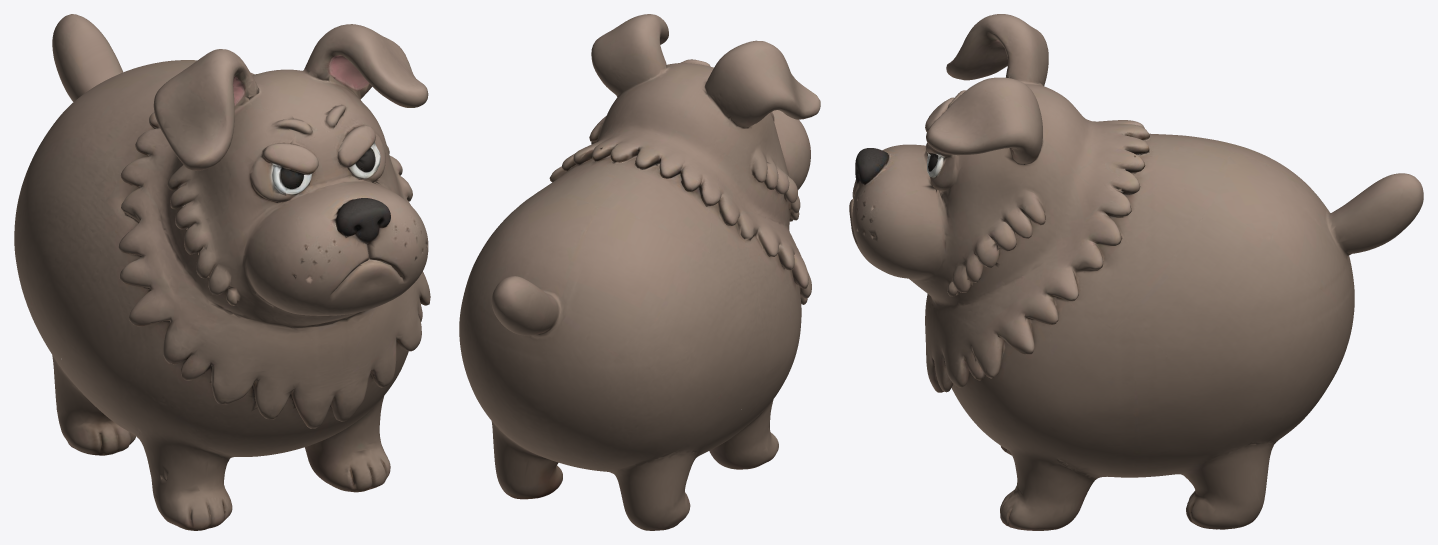
File: dog.glb
3 renders of one model, left to right at view 1: azimuth 30°, elevation 25°; view 2: azimuth 150°, elevation 25°; view 3: azimuth 270°, elevation 25°, orthographic. The views are drawn at different scales.
Parts seen in each view (by area): view 1: tripo_node_39139e6e-aca0-4b9f-b105-4eeecaefccec; view 2: tripo_node_39139e6e-aca0-4b9f-b105-4eeecaefccec; view 3: tripo_node_39139e6e-aca0-4b9f-b105-4eeecaefccec.
Part boxes in pixels (box(x1,y1,x2,y2)): tripo_node_39139e6e-aca0-4b9f-b105-4eeecaefccec: box(14, 14, 430, 530); tripo_node_39139e6e-aca0-4b9f-b105-4eeecaefccec: box(459, 14, 820, 530); tripo_node_39139e6e-aca0-4b9f-b105-4eeecaefccec: box(849, 14, 1423, 530).
Bounding box in the file's own units: 0.5687 × 0.8262 × 0.9792.
1 material, 1 textured.
